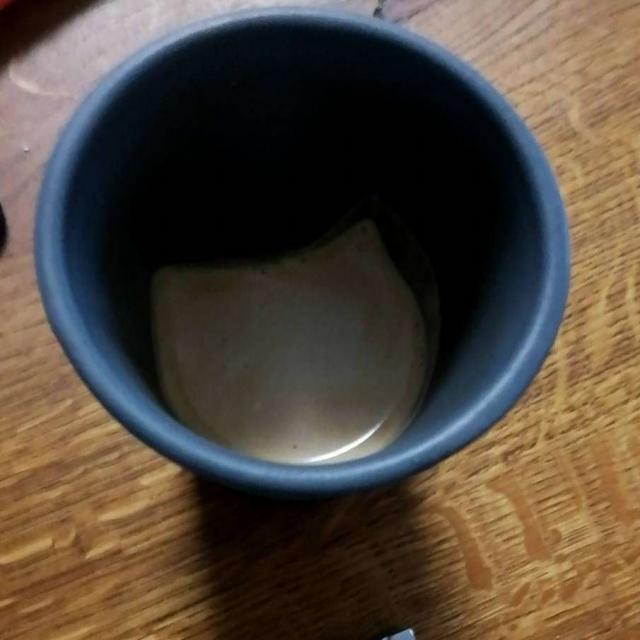coffee: (170, 229, 450, 458)
